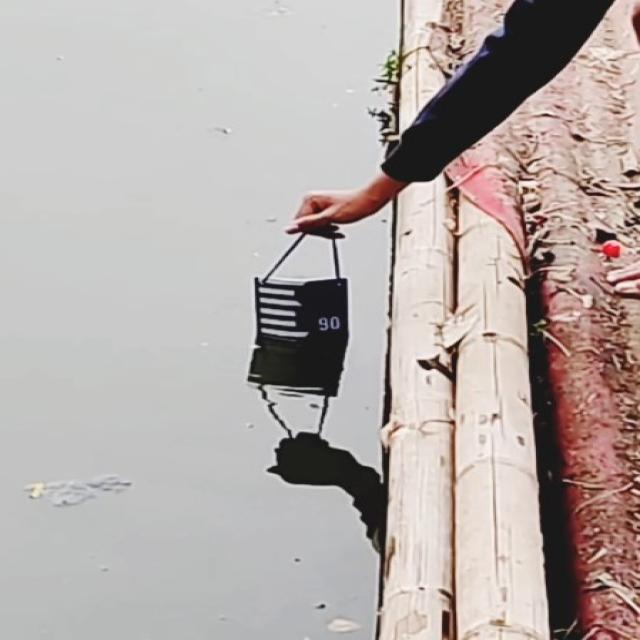90: (316, 314, 342, 332)
staff: (252, 276, 350, 340)
